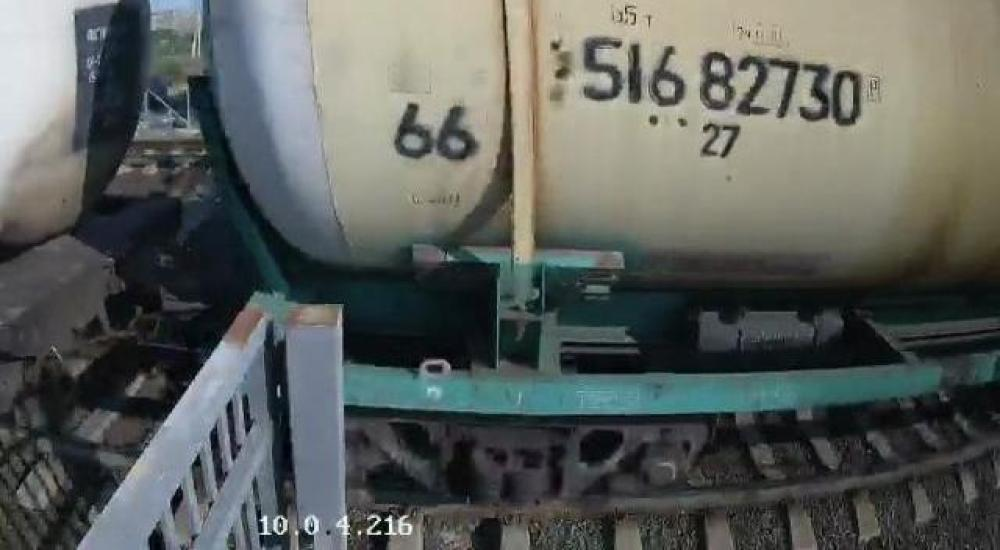Wagon-number: (575, 34, 868, 132)
